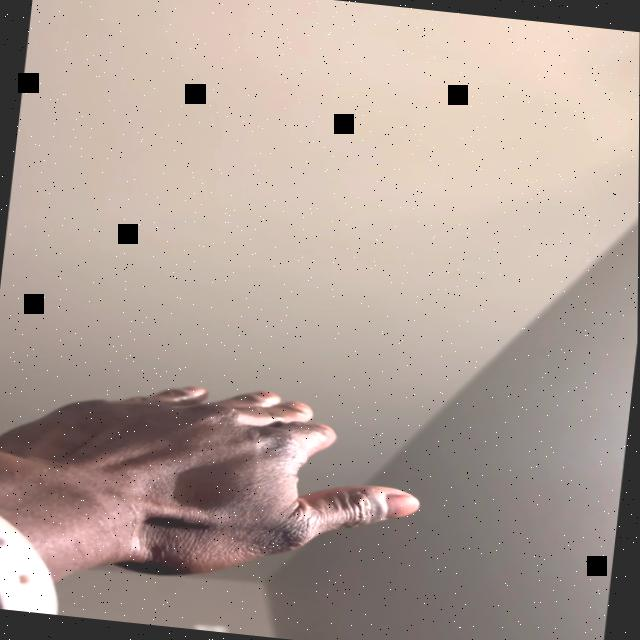Paper: (0, 358, 433, 599)
